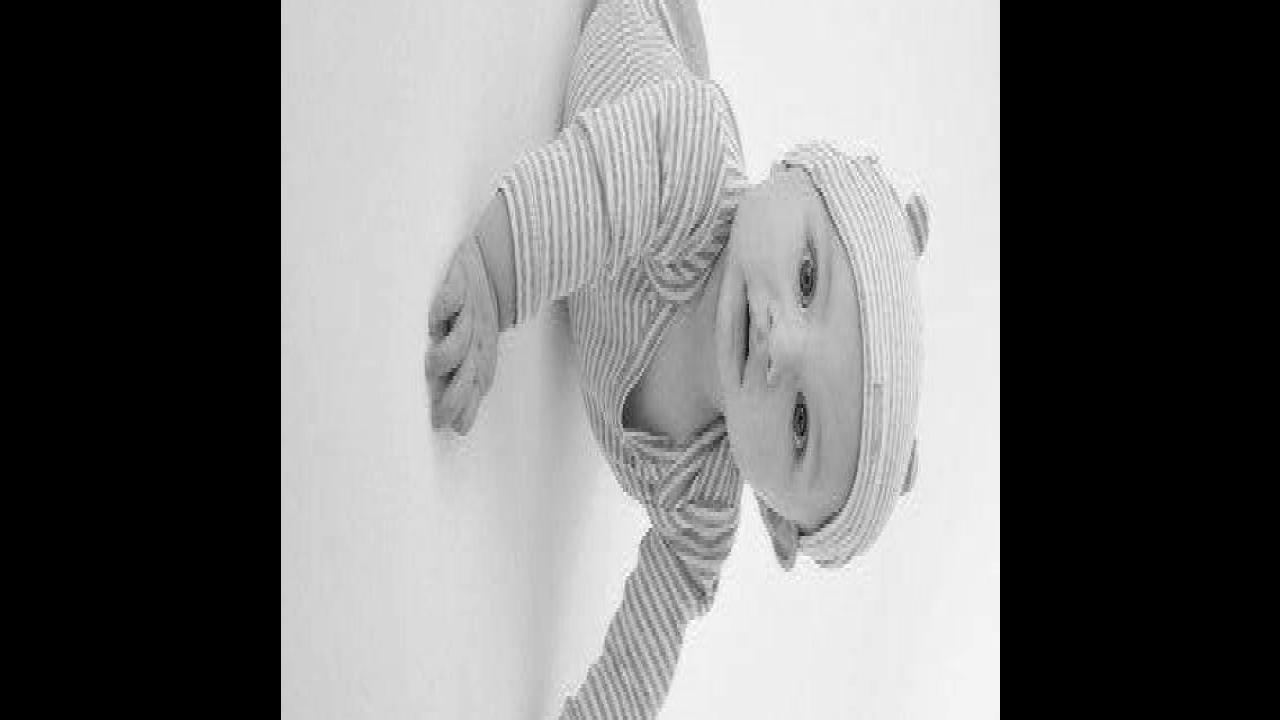hand: (425, 238, 499, 437)
